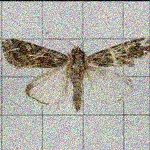Spodoptera litura: (0, 36, 149, 111)
